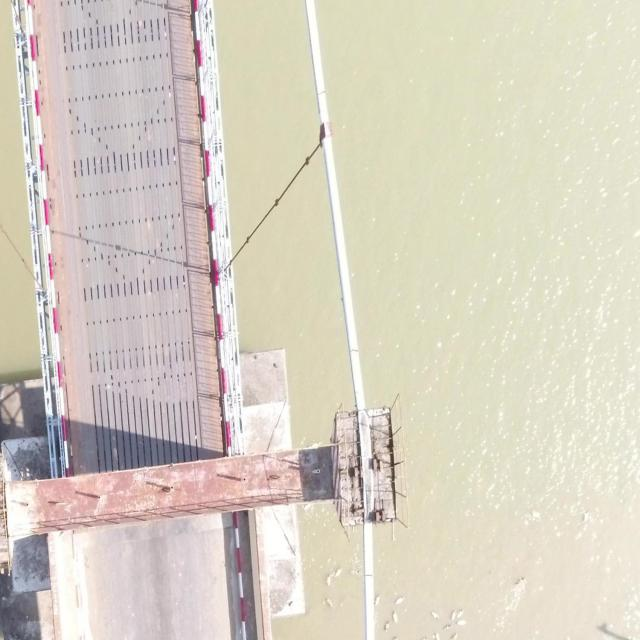crack: (365, 573, 373, 578), (316, 91, 326, 95), (349, 349, 358, 352)
